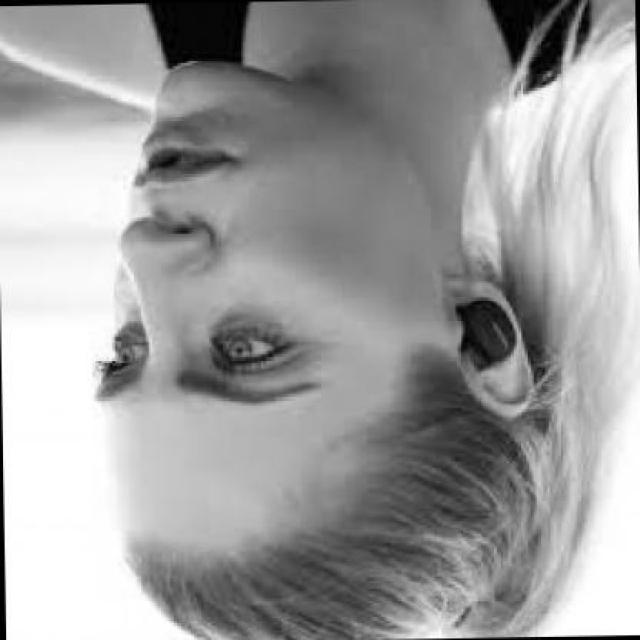earphone: (454, 285, 526, 373)
